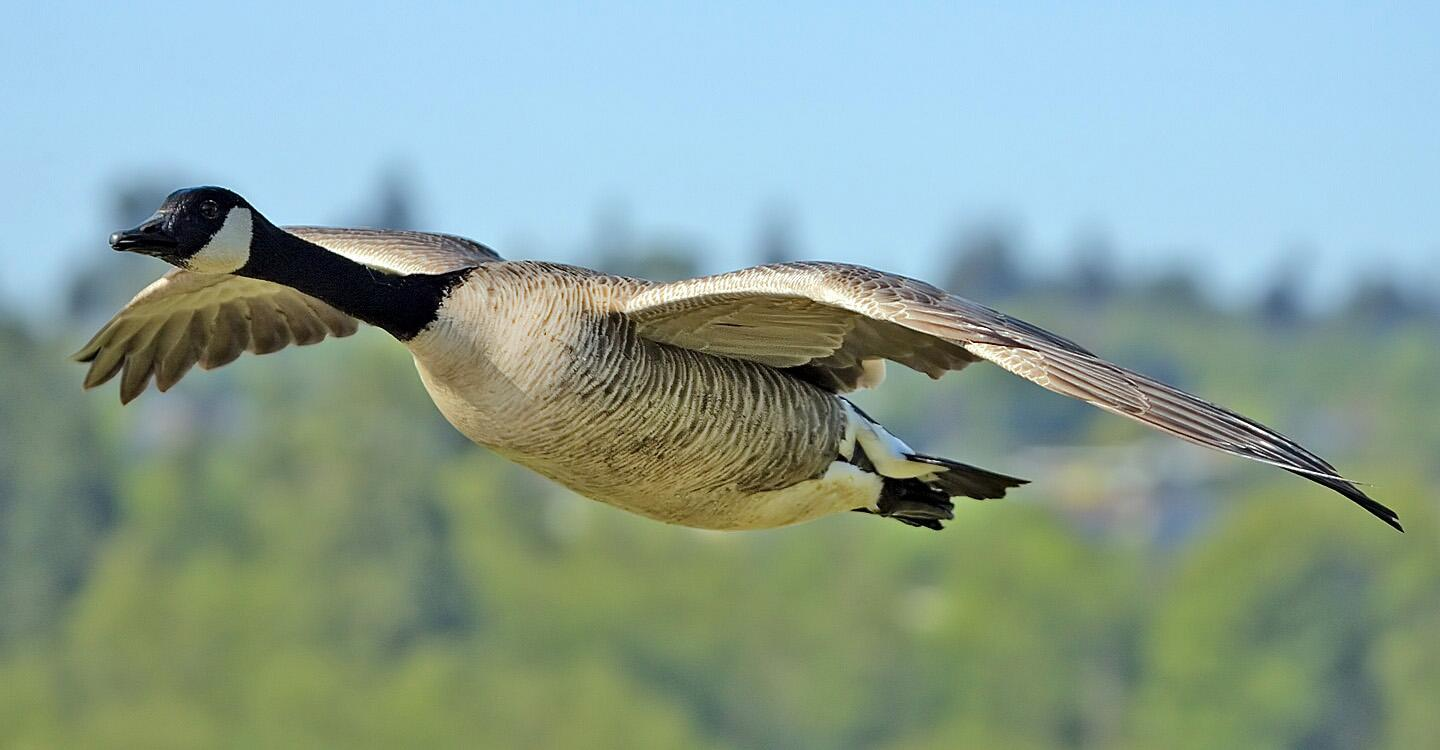Canadian-Goose: (73, 182, 1404, 562)
